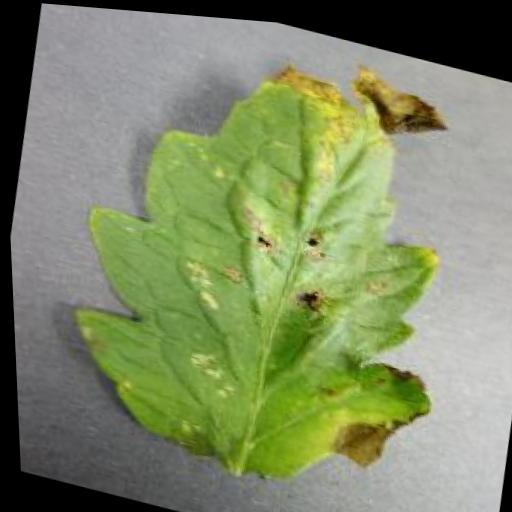Bacterial Spot: (35, 2, 490, 512)
